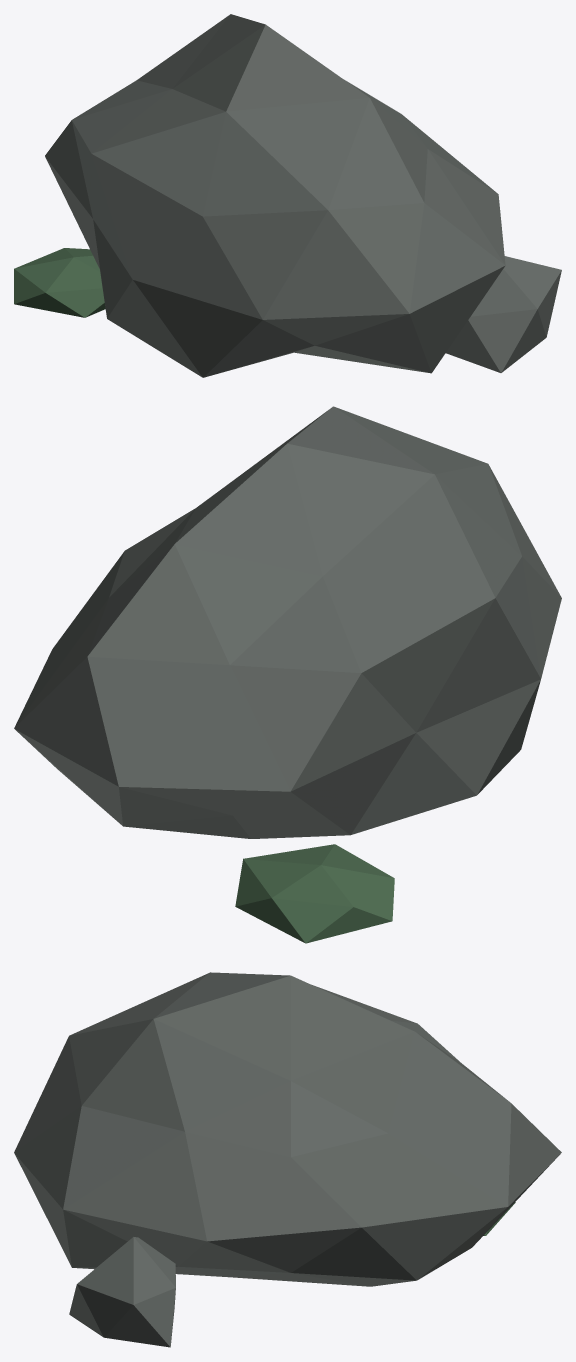
The model's file is SM_CoverRock.fbx.
3 views of the same model, one above another, from view 1: azimuth 30°, elevation 25°; view 2: azimuth 150°, elevation 25°; view 3: azimuth 270°, elevation 25° (orthographic). The views are drawn at different scales.
Parts seen in each view (by area): view 1: SM_CoverRock; view 2: SM_CoverRock; view 3: SM_CoverRock.
Boxes of the visible parts, x1,y1,x2,y2 form: SM_CoverRock: [14, 14, 561, 377]; SM_CoverRock: [14, 406, 561, 943]; SM_CoverRock: [14, 972, 561, 1347].
Bounding box in the file's own units: 247 × 184 × 313.
